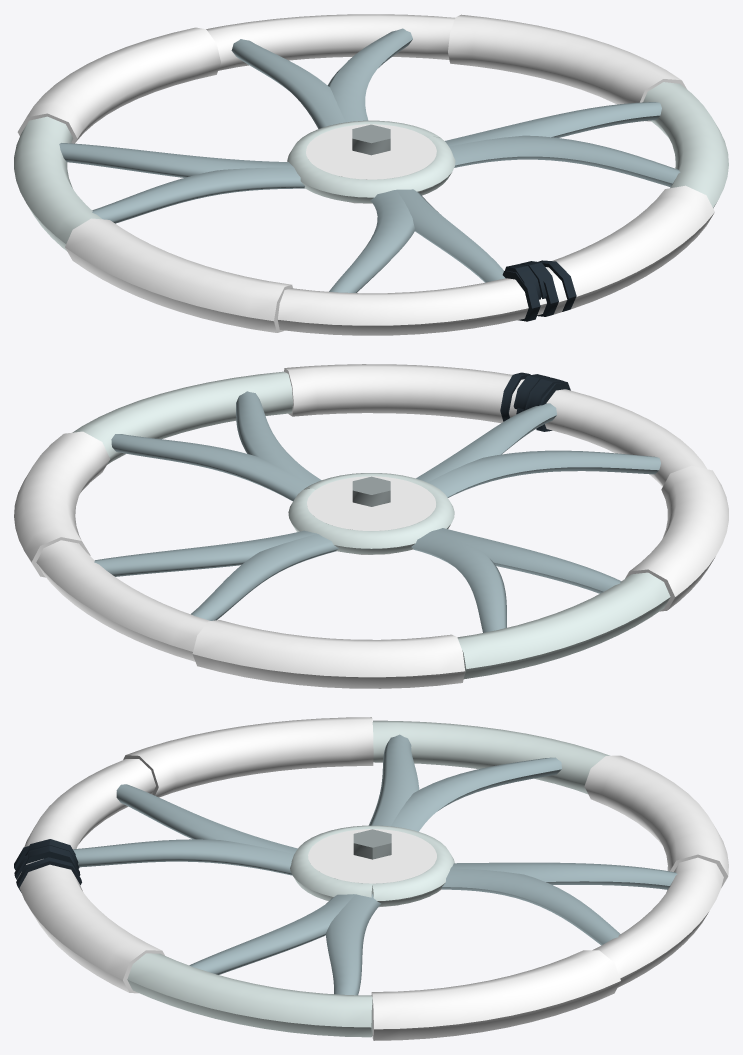
File: Wheel_22_SR_外海・二重線.glb
3 renders of one model, top to bottom at view 1: azimuth 30°, elevation 25°; view 2: azimuth 150°, elevation 25°; view 3: azimuth 270°, elevation 25°, orthographic.
Parts seen in each view (by area): view 1: Wheel_22_SR; view 2: Wheel_22_SR; view 3: Wheel_22_SR.
Boxes of the visible parts, bbox=[...] form: Wheel_22_SR: bbox=[14, 14, 728, 335]; Wheel_22_SR: bbox=[14, 364, 728, 688]; Wheel_22_SR: bbox=[14, 717, 728, 1040].
Size of the model in its own units: 0.326 by 0.0299 by 0.3276.
4 materials, 4 textured.
